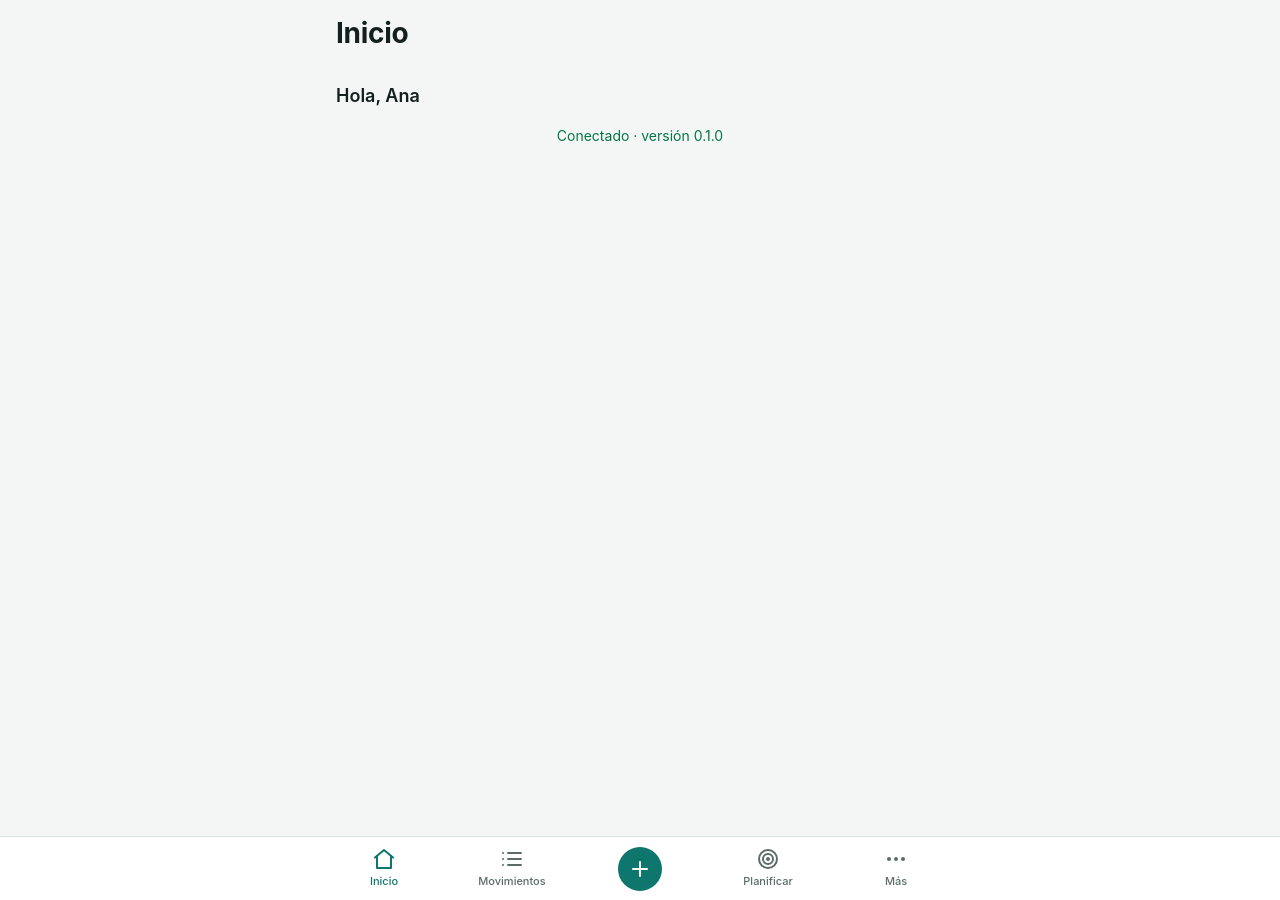
Test: app shell › navigates between sections from the bottom bar
Click the link "Movimientos" at (512, 868), box [478,847,546,888]
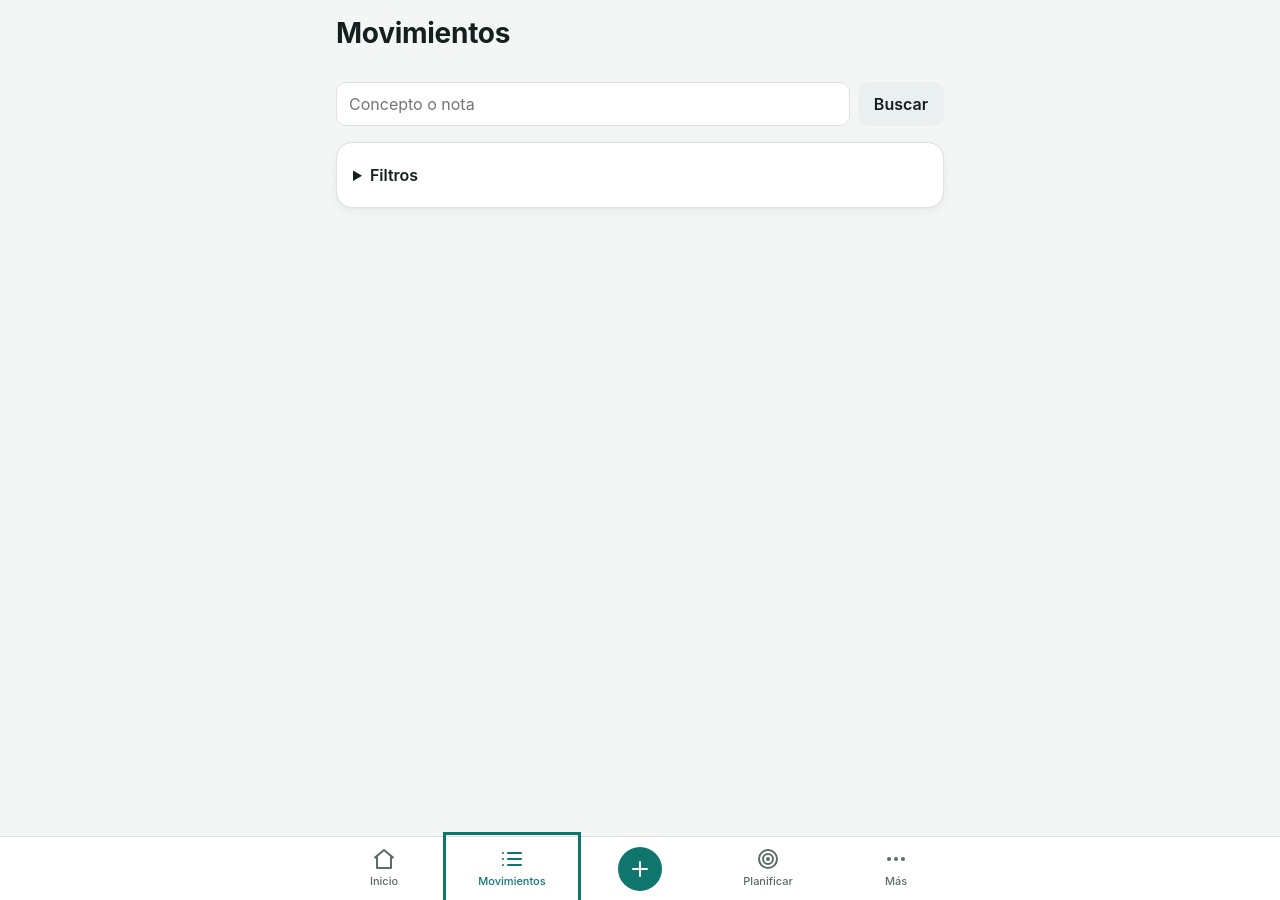
Check: the heading "Movimientos" is shown, box [336,16,510,50]
